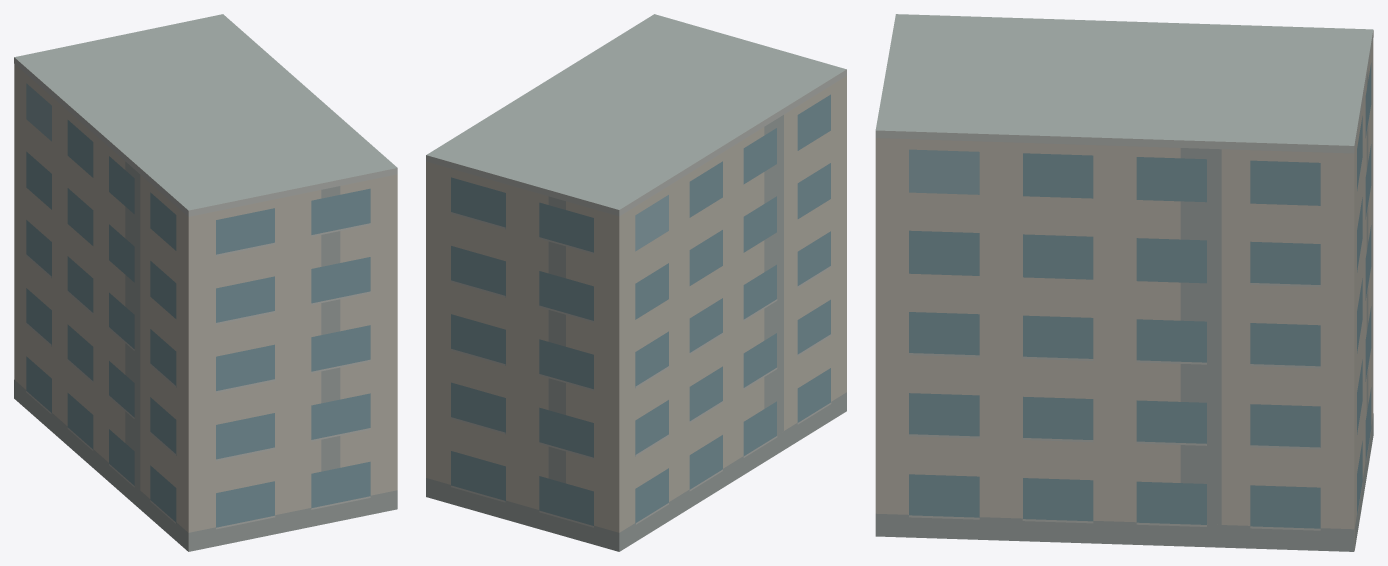
Rendered from survey-upis-32948899.glb.
The picture shows the model from 3 angles, left to right: view 1: azimuth 30°, elevation 25°; view 2: azimuth 150°, elevation 25°; view 3: azimuth 270°, elevation 25°; orthographic projection. The views are drawn at different scales.
Visible parts, largest first — view 1: survey-upis-32948899.tmp; view 2: survey-upis-32948899.tmp; view 3: survey-upis-32948899.tmp.
Part boxes in pixels (x1,y1,x2,y2): survey-upis-32948899.tmp: [14, 14, 397, 551]; survey-upis-32948899.tmp: [426, 14, 846, 551]; survey-upis-32948899.tmp: [875, 14, 1373, 551].
Size of the model in its own units: 9.14 by 13.1 by 14.57.
